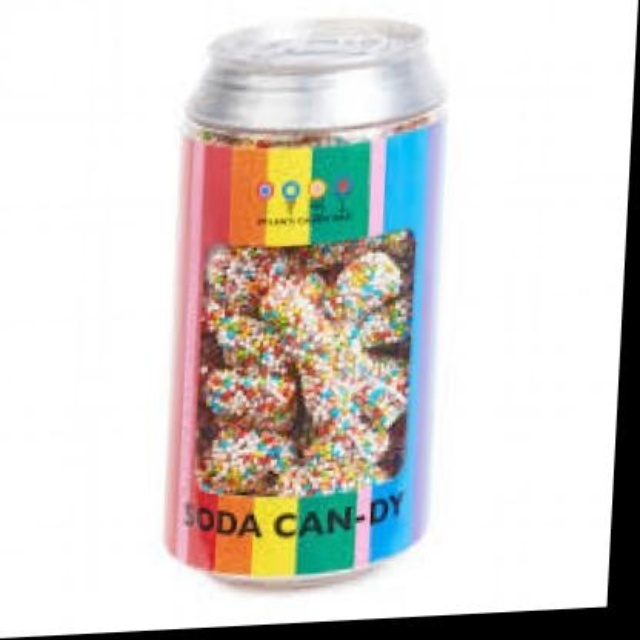trash: (171, 18, 442, 575)
